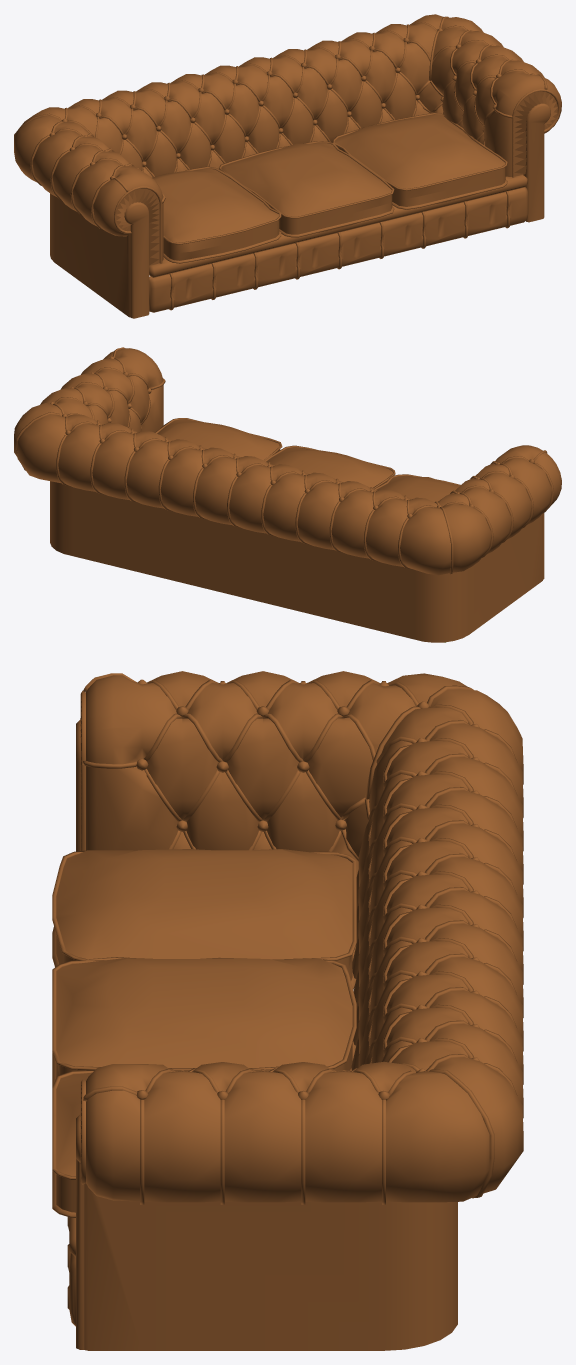
File: sofa_1.glb
3 views of the same model, one above another, from view 1: azimuth 30°, elevation 25°; view 2: azimuth 150°, elevation 25°; view 3: azimuth 270°, elevation 25° (orthographic). The views are drawn at different scales.
Parts seen in each view (by area): view 1: root; view 2: root; view 3: root.
Part boxes in pixels (x1,y1,x2,y2): root: [14, 14, 561, 318]; root: [14, 347, 561, 642]; root: [52, 671, 523, 1350].
Bounding box in the file's own units: 2.58 × 0.7562 × 1.13.
